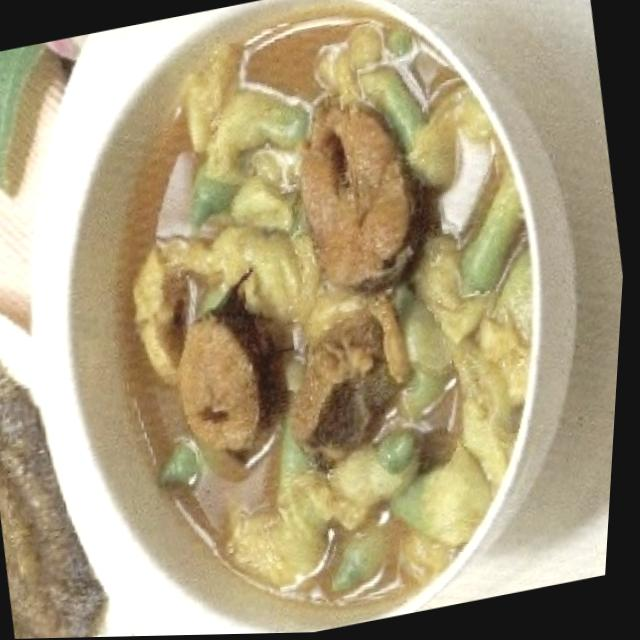汤锅炖物: (0, 0, 631, 640)
